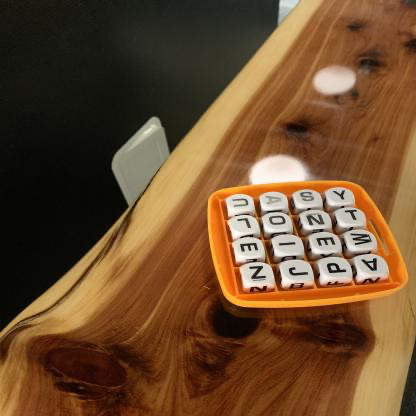a: (358, 255, 389, 277), (261, 192, 288, 210)
e: (233, 238, 265, 259), (311, 233, 343, 253)
i: (273, 236, 304, 255)
j: (282, 261, 315, 283)
l: (231, 216, 259, 233)
n: (302, 211, 331, 229)
o: (264, 213, 293, 232)
p: (320, 258, 353, 280)
s: (294, 190, 322, 208)
t: (339, 208, 367, 226)
u: (226, 195, 255, 212)
w: (345, 230, 378, 250)
y: (328, 188, 355, 205)
z: (242, 263, 276, 287)
